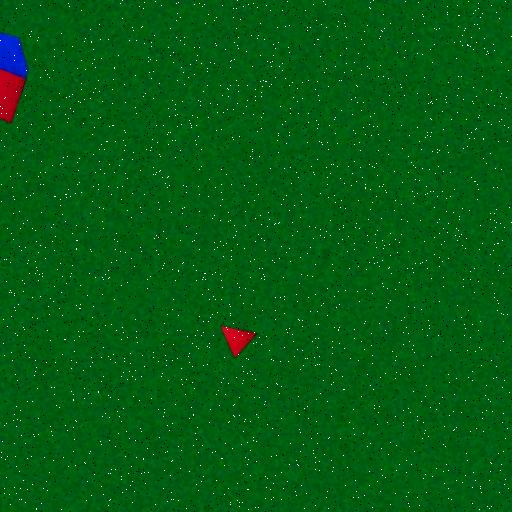RED_SQUARE: (0, 60, 27, 124)
